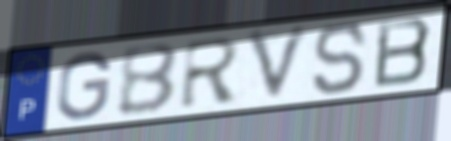B: (116, 40, 182, 119), (371, 15, 435, 91)
G: (54, 50, 115, 122)
R: (177, 34, 243, 112)
S: (312, 20, 369, 98)
V: (243, 21, 315, 107)
